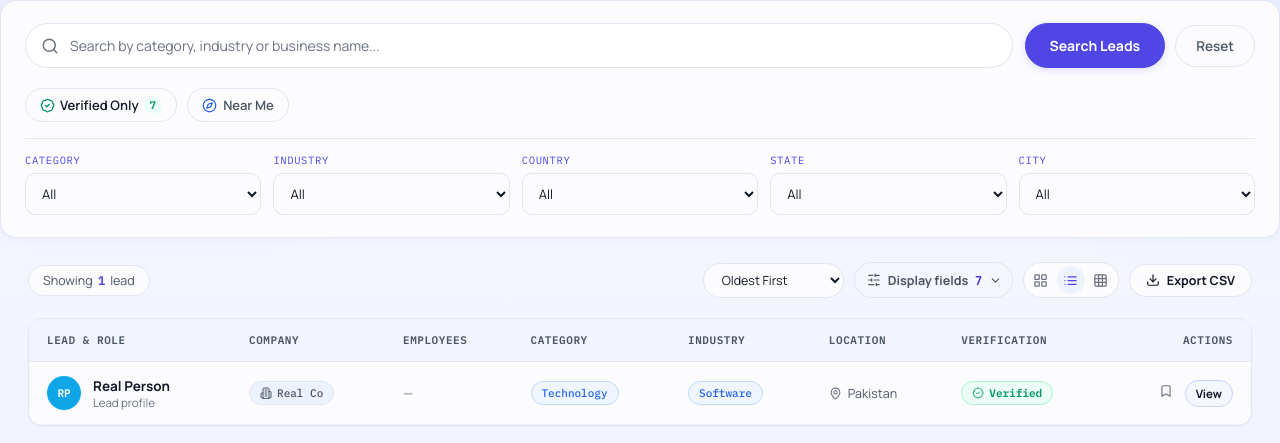
DirectoryPage filters reach the API › sends the selected industry
Expected: the text "Real Person" is shown, [93,376,170,394]
Select "Software (9)" in the 2nd dropdown with class "app-filter-dropdown-select" at x=392, y=194, box [273,173,510,215]
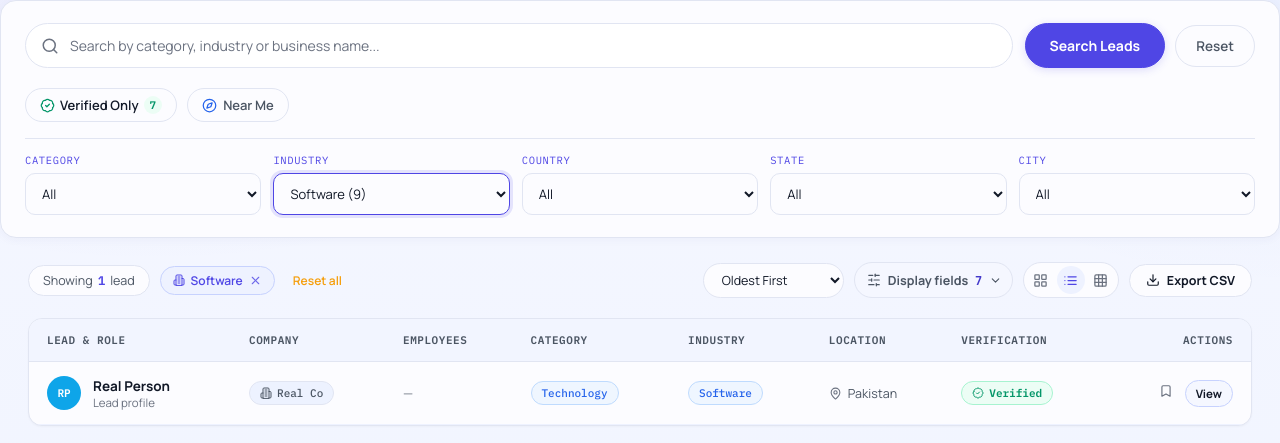
Now the element showing "Software" is shown, box [160,266,275,294]
